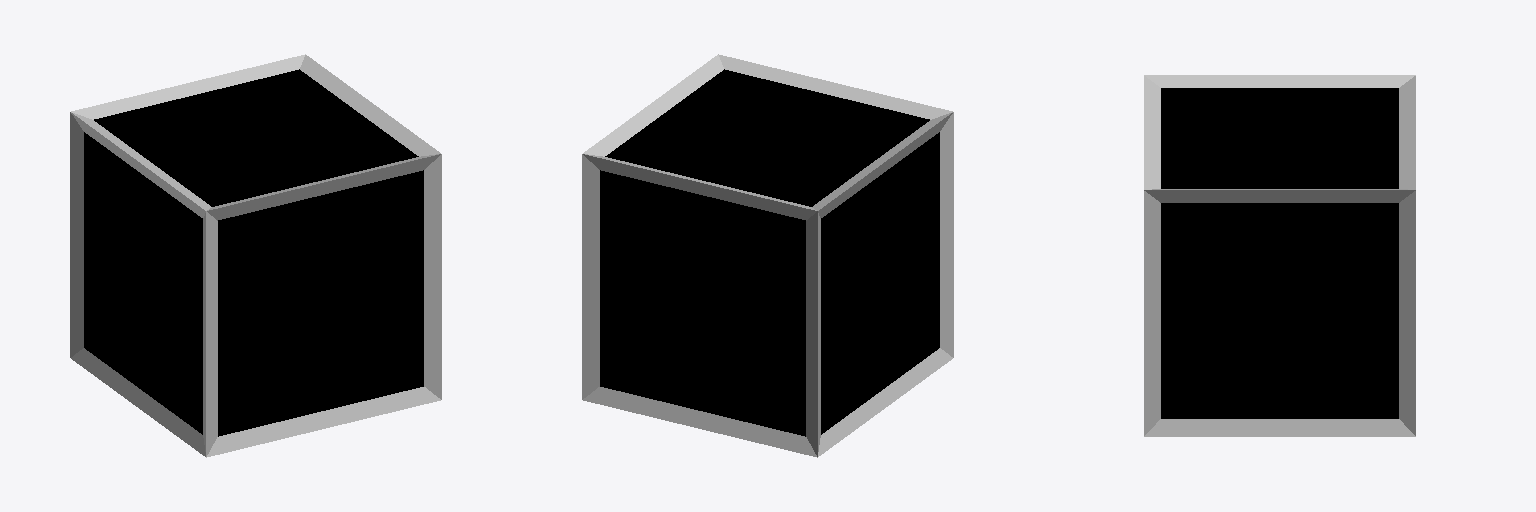
The model's file is neonSquare.obj.
The picture shows the model from 3 angles: view 1: azimuth 30°, elevation 25°; view 2: azimuth 150°, elevation 25°; view 3: azimuth 270°, elevation 25°; orthographic projection.
Visible parts, largest first — view 1: Cube; view 2: Cube; view 3: Cube.
Part boxes in pixels (x1,y1,x2,y2): Cube: (70, 54, 441, 457); Cube: (582, 54, 953, 457); Cube: (1144, 75, 1415, 436).
Size of the model in its own units: 2.09 by 2.09 by 2.09.